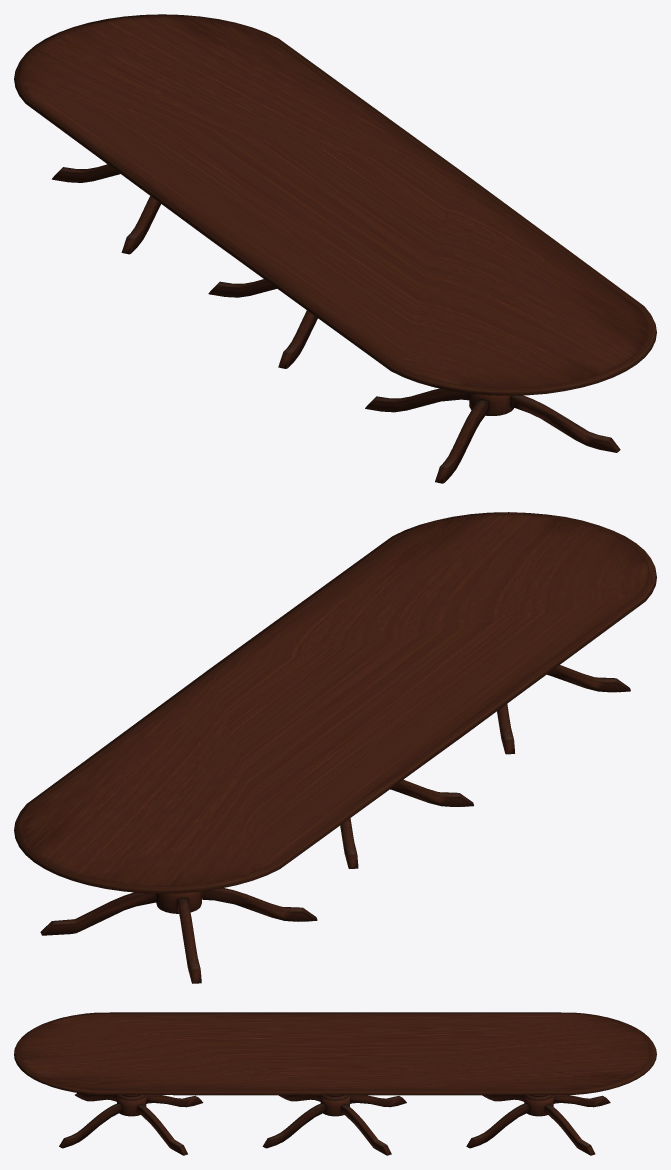
The model's file is banquet_table_6m.glb.
The picture shows the model from 3 angles, top to bottom: view 1: azimuth 30°, elevation 25°; view 2: azimuth 150°, elevation 25°; view 3: azimuth 270°, elevation 25°; orthographic projection. The views are drawn at different scales.
Parts seen in each view (by area): view 1: Rounded end tabletop, Turned pedestal 3, Turned pedestal 2, Pedestal master; view 2: Rounded end tabletop, Pedestal master, Turned pedestal 2, Turned pedestal 3; view 3: Rounded end tabletop, Turned pedestal 3, Pedestal master, Turned pedestal 2.
Boxes of the visible parts, x1=… form: Rounded end tabletop: x1=14, y1=14, x2=656, y2=395; Turned pedestal 3: x1=365, y1=388, x2=620, y2=483; Turned pedestal 2: x1=208, y1=279, x2=317, y2=368; Pedestal master: x1=52, y1=164, x2=160, y2=254; Rounded end tabletop: x1=14, y1=512, x2=656, y2=893; Pedestal master: x1=40, y1=888, x2=317, y2=983; Turned pedestal 2: x1=340, y1=779, x2=473, y2=868; Turned pedestal 3: x1=497, y1=665, x2=630, y2=754; Rounded end tabletop: x1=14, y1=1012, x2=656, y2=1095; Turned pedestal 3: x1=59, y1=1093, x2=203, y2=1155; Pedestal master: x1=466, y1=1095, x2=610, y2=1155; Turned pedestal 2: x1=262, y1=1095, x2=406, y2=1155.
Size of the model in its own units: 1.8 by 0.7494 by 6.
Materials: 2 (2 with a texture image).
